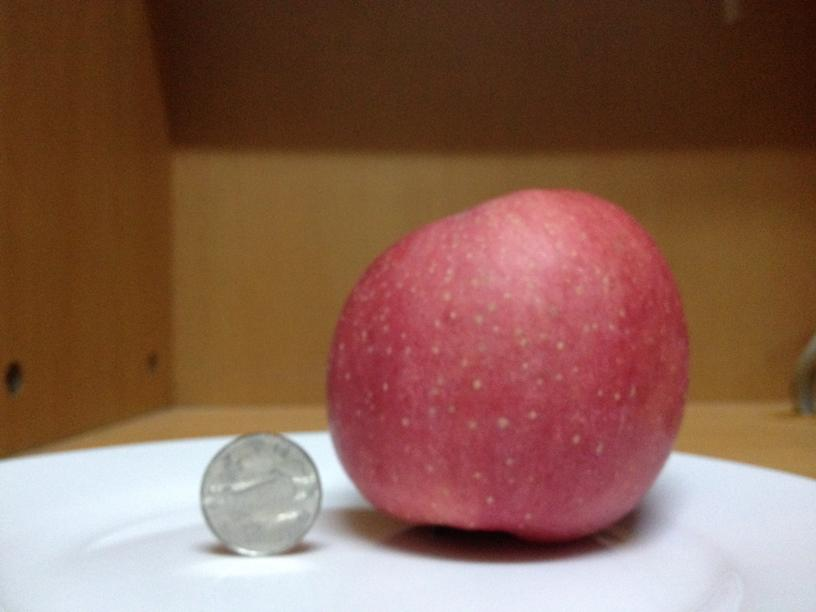apple: (323, 187, 690, 544)
coin: (196, 434, 321, 558)
